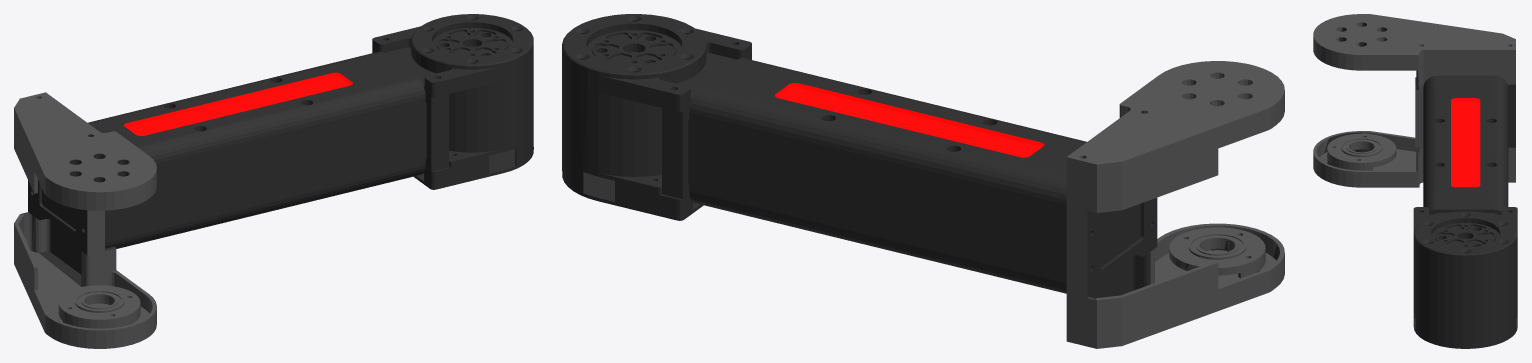
The picture shows the model from 3 angles, left to right: view 1: azimuth 30°, elevation 25°; view 2: azimuth 150°, elevation 25°; view 3: azimuth 270°, elevation 25°; orthographic projection. The views are drawn at different scales.
Visible parts, largest first — view 1: link3; view 2: link3; view 3: link3.
Part boxes in pixels (x1,y1,x2,y2): link3: (14, 14, 533, 348); link3: (562, 14, 1284, 348); link3: (1313, 14, 1517, 348).
Bounding box in the file's own units: 0.303 × 0.0845 × 0.118.
